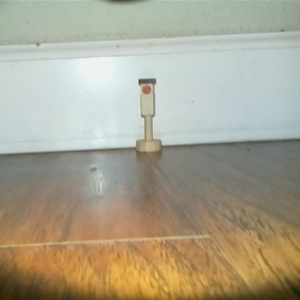traffic light red: (134, 77, 163, 154)
